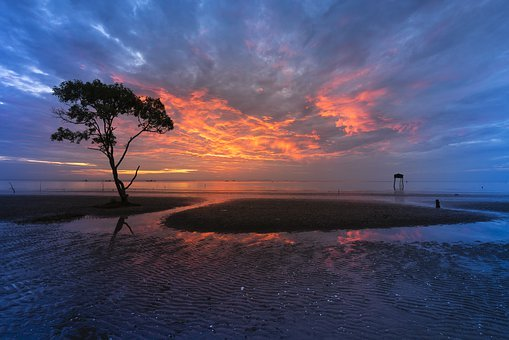sea: (6, 181, 506, 340)
sky: (148, 1, 501, 173)
tree: (53, 70, 152, 211)
